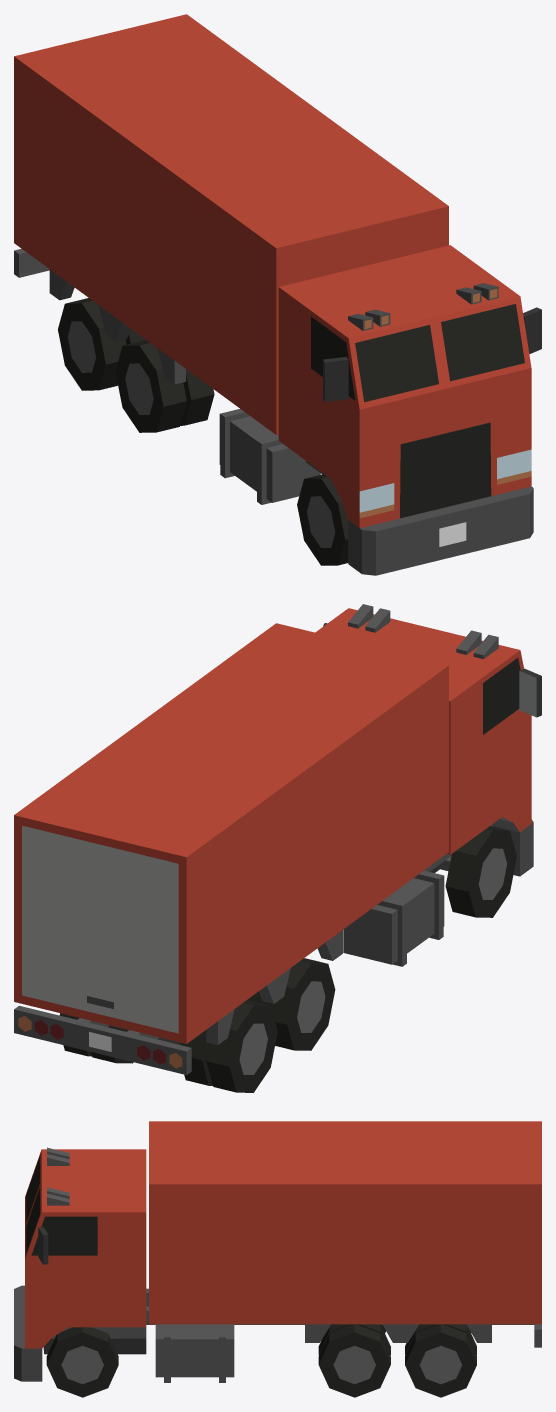
Rendered from Veh_Truck_03_Red.glb.
The picture shows the model from 3 angles, top to bottom: view 1: azimuth 30°, elevation 25°; view 2: azimuth 150°, elevation 25°; view 3: azimuth 270°, elevation 25°; orthographic projection. The views are drawn at different scales.
Parts seen in each view (by area): view 1: Truck_03_Red, Wheel_RR1, Wheel_RR2, Wheel_FR; view 2: Truck_03_Red, Wheel_RR2, Wheel_FR, Wheel_RR1; view 3: Truck_03_Red, Wheel_RL1, Wheel_RL2, Wheel_FL.
Part boxes in pixels (left/top/right/bottom): Truck_03_Red: left=14, top=14, right=541, bottom=575; Wheel_RR1: left=115, top=340, right=214, bottom=432; Wheel_RR2: left=58, top=298, right=146, bottom=390; Wheel_FR: left=297, top=474, right=348, bottom=565; Truck_03_Red: left=14, top=604, right=541, bottom=1074; Wheel_RR2: left=180, top=1000, right=277, bottom=1092; Wheel_FR: left=445, top=826, right=516, bottom=917; Wheel_RR1: left=247, top=958, right=335, bottom=1050; Truck_03_Red: left=14, top=1121, right=541, bottom=1382; Wheel_RL1: left=318, top=1324, right=390, bottom=1397; Wheel_RL2: left=405, top=1324, right=476, bottom=1397; Wheel_FL: left=46, top=1327, right=118, bottom=1397.
Size of the model in its own units: 1.68 by 2.11 by 4.74.
Materials: 1 (1 with a texture image).
